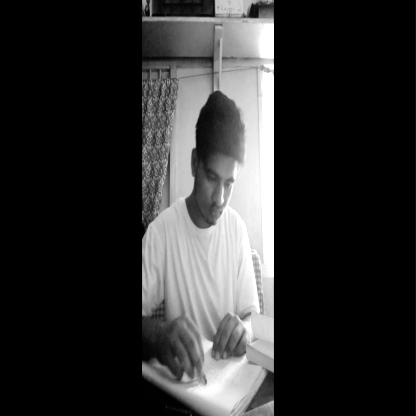Distracted: (190, 89, 246, 233)
